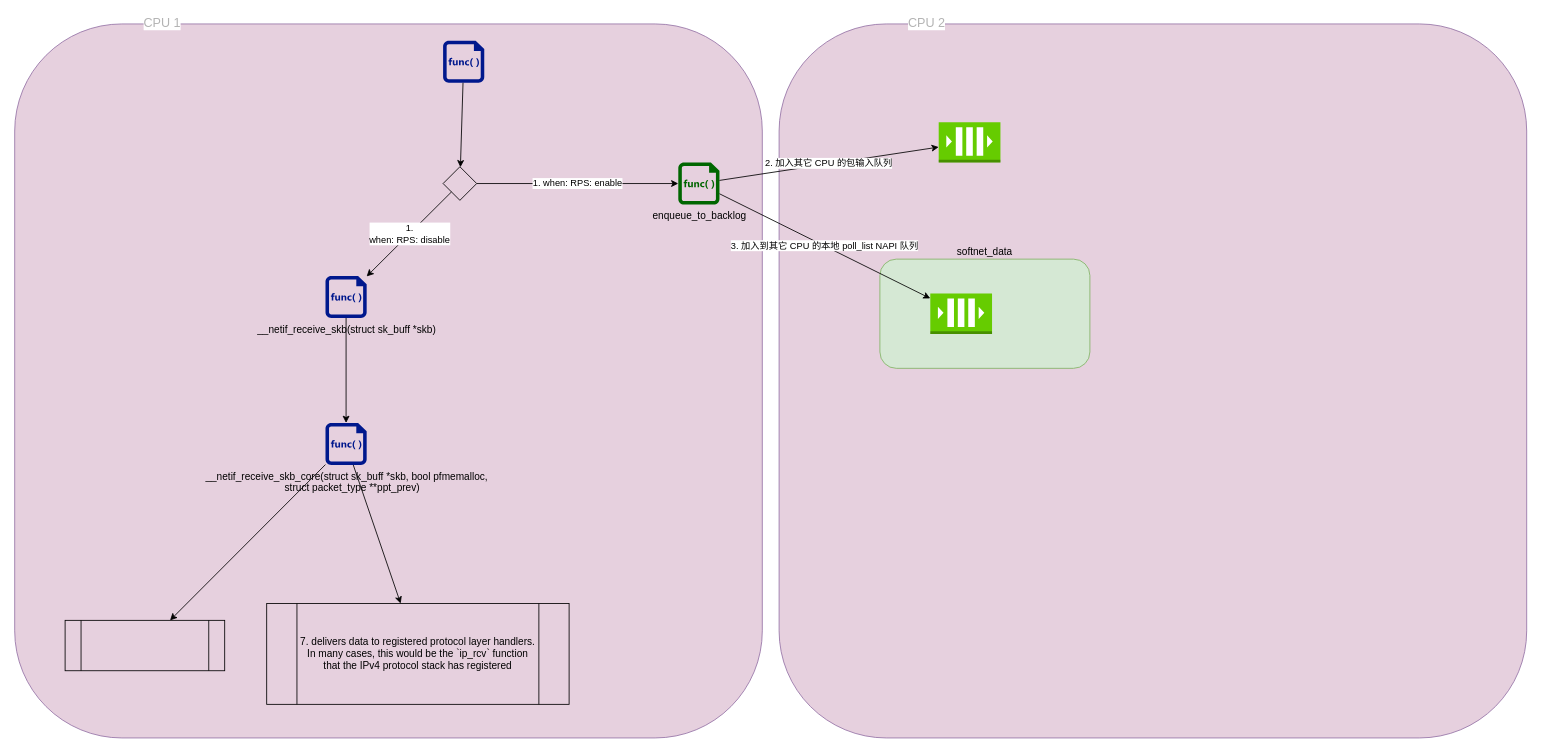
The diagram is 1541 pixels wide and 753 high, and some of its shapes have lost their labels. Each missing label, with the centre of its shape:
6. delivers data to any taps (like PCAP): pixel 144 645
netif_receive_skb(struct sk_buff *skb) netif_receive_skb_internal(): pixel 463 61
packet input queue: pixel 969 142
poll_list: pixel 960 313
